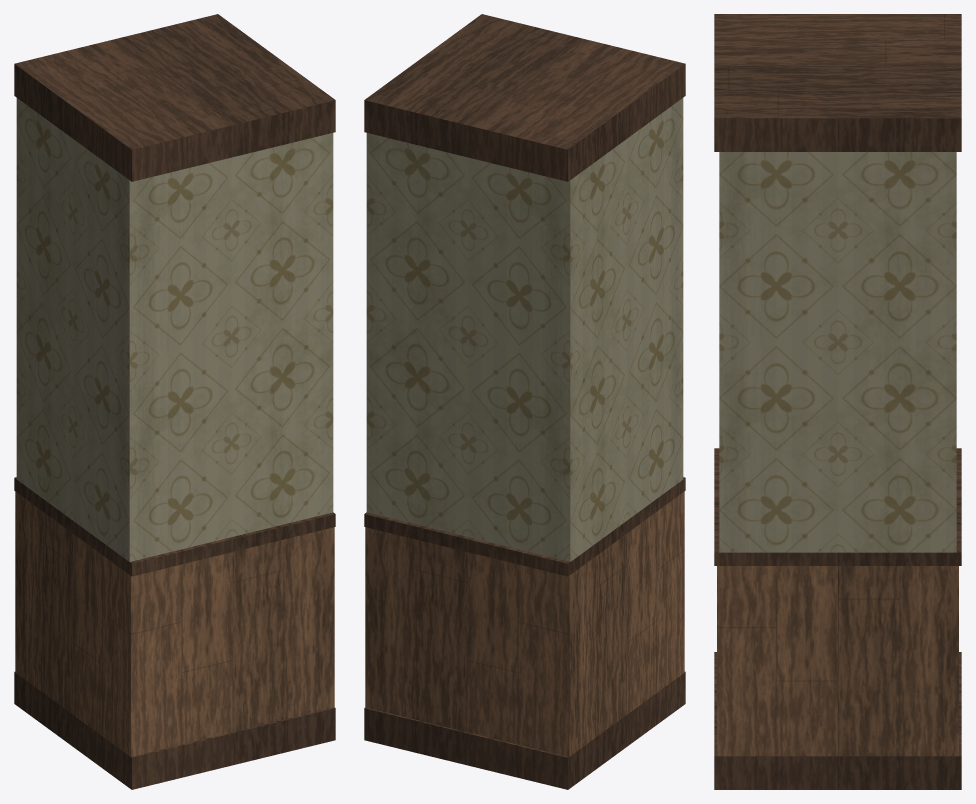
Rendered from EST_Pilar.fbx.
3 views of the same model, side by side, from view 1: azimuth 30°, elevation 25°; view 2: azimuth 150°, elevation 25°; view 3: azimuth 270°, elevation 25° (orthographic). The views are drawn at different scales.
Parts seen in each view (by area): view 1: EST_Pilar; view 2: EST_Pilar; view 3: EST_Pilar.
Boxes of the visible parts, box(x1,y1,x2,y2) form: EST_Pilar: box(14, 14, 335, 789); EST_Pilar: box(364, 14, 685, 789); EST_Pilar: box(714, 14, 961, 789).
Size of the model in its own units: 1 by 3 by 1.
